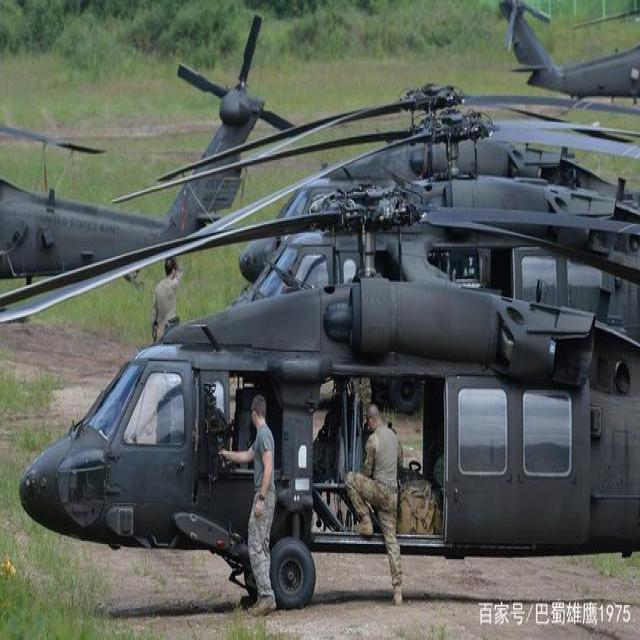MIL_HELO: (0, 188, 640, 612), (188, 113, 640, 359)
